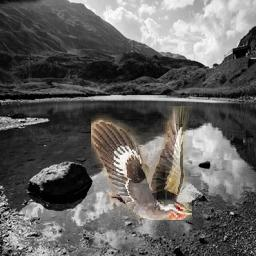Woodpecker: (92, 106, 193, 220)
